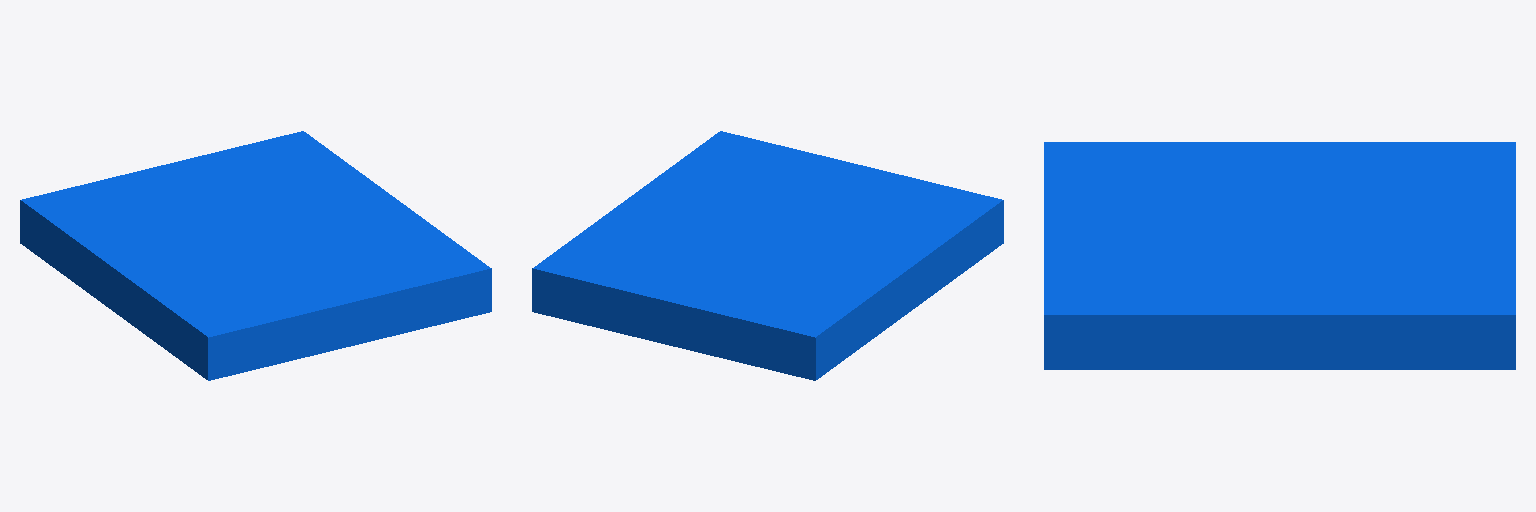
URDF robot description (block):
<?xml version="0.0" ?>
<robot name="block">
    <material name="blue">
        <color rgba="0.078431 0.494117 0.984313 1"/>
    </material>

    <link name="baseLink">
        <!-- from lego/lego.urdf -->
        <contact>
            <lateral_friction value="1.0"/>
            <rolling_friction value="0.0"/>
            <contact_cfm value="0.0"/>
            <contact_erp value="1.0"/>
        </contact>
        <inertial>
            <origin rpy="0 0 0" xyz="0 0 0"/>
            <mass value="0.01"/>
            <inertia ixx="1" ixy="0" ixz="0" iyy="1" iyz="0" izz="1"/>
        </inertial>
        <visual>
            <origin rpy="0 0 0" xyz="0 0 0"/>
            <geometry>
                <box size="0.02206 0.02538 0.00325"/>
            </geometry>
            <material name="blue"/>
        </visual>
        <collision>
            <origin rpy="0 0 0" xyz="0 0 0"/>
            <geometry>
                <box size="0.02206 0.02538 0.00325"/>
            </geometry>
        </collision>
    </link>

    <link name="waypoint_0">
        <inertial>
            <origin rpy="0 0 0" xyz="0 0 0"/>
            <mass value=".0"/>
            <inertia ixx="0." ixy="0" ixz="0" iyy="0." iyz="0" izz="0."/>
        </inertial>
    </link>

    <joint name="waypoint_joint_0" type="fixed">
        <parent link="baseLink"/>
        <child link="waypoint_0"/>
        <!--    (-R/2, 0, 0)-->
        <origin rpy="0 0 0" xyz="-0.005 0 0"/>
    </joint>

    <link name="waypoint_1">
        <inertial>
            <origin rpy="0 0 0" xyz="0 0 0"/>
            <mass value=".0"/>
            <inertia ixx="0." ixy="0" ixz="0" iyy="0." iyz="0" izz="0."/>
        </inertial>
    </link>

    <joint name="waypoint_joint_1" type="fixed">
        <parent link="baseLink"/>
        <child link="waypoint_1"/>
        <!--    (R/4, sqrt(3)R/4, 0)-->
        <origin rpy="0 0 -2.094395" xyz="0.0025 0.004330 0"/>
    </joint>

    <link name="waypoint_2">
        <inertial>
            <origin rpy="0 0 0" xyz="0 0 0"/>
            <mass value=".0"/>
            <inertia ixx="0." ixy="0" ixz="0" iyy="0." iyz="0" izz="0."/>
        </inertial>
    </link>

    <joint name="waypoint_joint_2" type="fixed">
        <parent link="baseLink"/>
        <child link="waypoint_2"/>
        <!--    (R/4, -sqrt(3)R/4, 0)-->
        <origin rpy="0 0 2.094395" xyz="0.0025 -0.004330 0"/>
    </joint>
</robot>

--- Facts derived from the render (not from the file) ---
3 views of the same robot in one strip: view 1: azimuth 30°, elevation 25°; view 2: azimuth 150°, elevation 25°; view 3: azimuth 270°, elevation 25° (orthographic).
Model block with 4 links and 3 joints (3 fixed), rooted at baseLink, posed all joints at 0.
Visible links, largest first — view 1: baseLink; view 2: baseLink; view 3: baseLink.
Boxes of the visible links, <box> form: baseLink: <box>20,131,491,380</box>; baseLink: <box>532,131,1003,380</box>; baseLink: <box>1044,142,1515,369</box>.
Bounding box of the posed robot: 0.0221 × 0.0254 × 0.0033 m (x, y, z).
Geometry: primitives only (box / cylinder / sphere), no mesh files.
